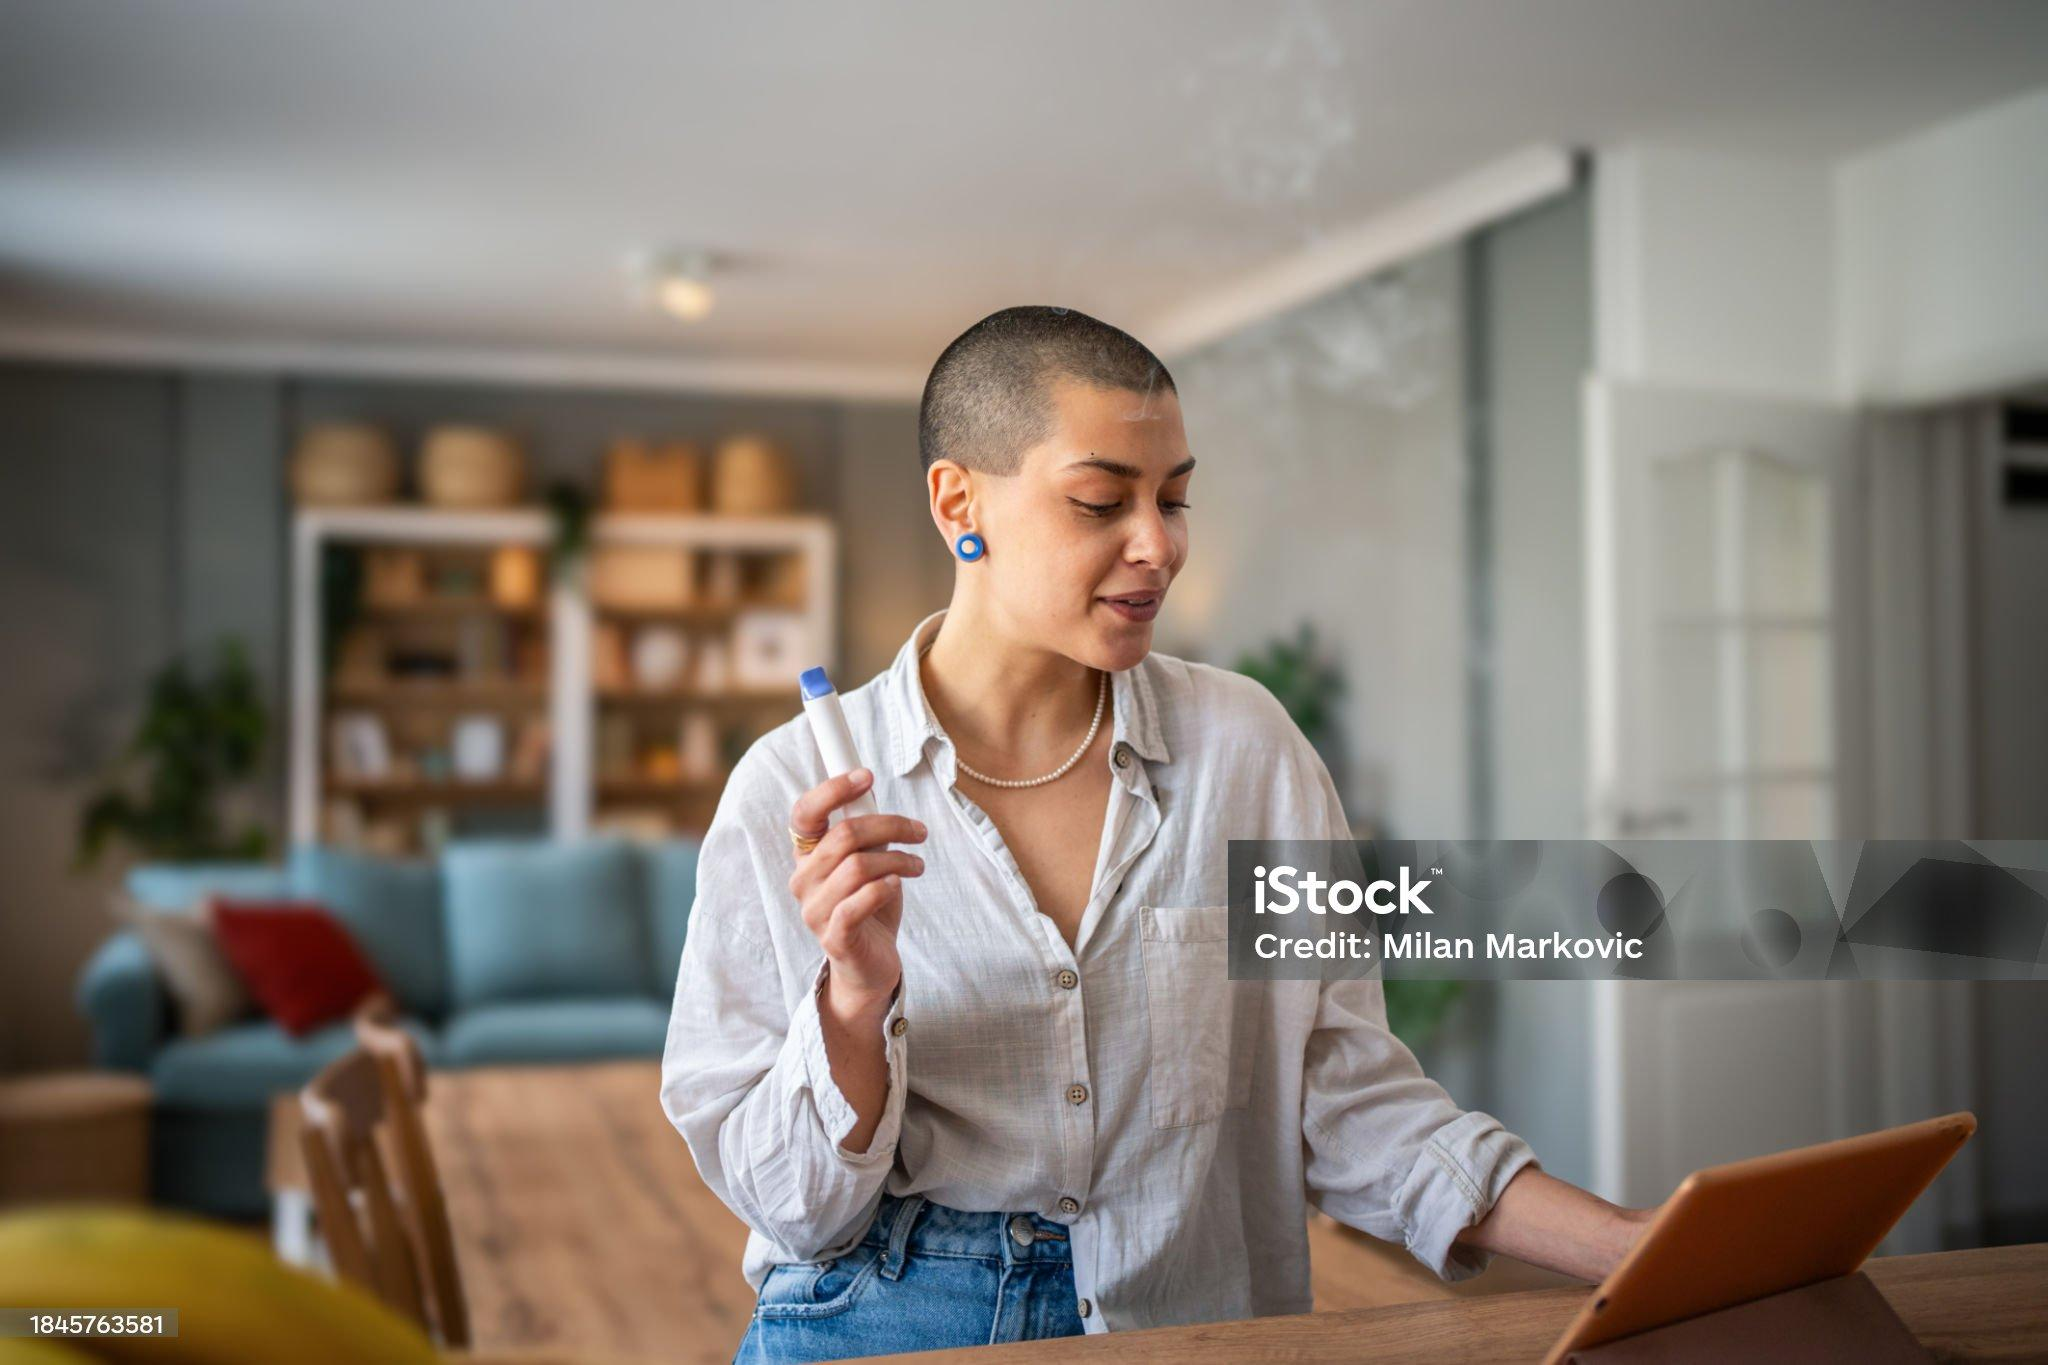Vape: (799, 666, 879, 820)
